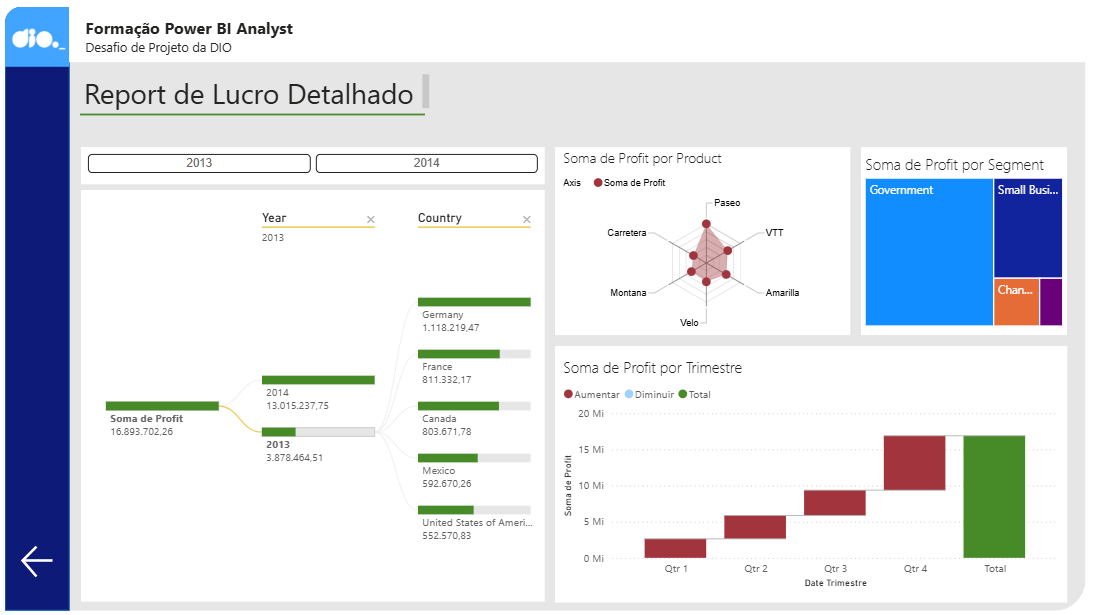

The page's visual inventory and layout, read from the dashboard file:
{"tool":"powerbi","page":{"name":"Página 2","canvas":[1280,720],"ordinal":1},"visuals":[{"type":"shape","box":[14.7,16,1246.7,696.6],"z":0},{"type":"shape","box":[14.7,16,74.6,696.6],"z":1000},{"type":"shape","box":[14.7,16,74.6,69.3],"z":2000},{"type":"image","box":[18.6,16,70.6,73.3],"z":3000},{"type":"shape","box":[89.2,15.9,1173.3,63.7],"z":4000},{"type":"textbox","box":[102.8,21.8,294.3,56.5],"z":5000},{"type":"shape","box":[101.5,118.8,398.1,42.7],"z":6000},{"type":"textbox","box":[101.5,88.8,408.5,50.8],"z":7000},{"type":"actionButton","box":[28.4,632.6,51.5,47.4],"z":8000},{"type":"shape","box":[103,227.5,535.1,475.4],"z":9000},{"type":"shape","box":[649.5,178,340.7,217.4],"z":10000},{"type":"shape","box":[1002.9,178,237.7,217.4],"z":11000},{"type":"shape","box":[649.5,406.8,591.1,296.2],"z":12000},{"type":"decompositionTreeVisual","fields":{"Analyze":["Sum(financials.Profit)"],"ExplainBy":["financials.Year","financials.Country"]},"box":[101.7,233.9,536.4,462.7],"z":13000},{"type":"treemap","fields":{"Values":["Sum(financials.Profit)"],"Group":["financials.Segment"]},"box":[1002.9,185.6,237.7,203.4],"z":14000},{"type":"waterfallChart","fields":{"Y":["Sum(financials.Profit)"],"Category":["financials.Date.Variation.Hierarquia de datas.Trimestre"]},"box":[654.6,419.5,582.2,270.7],"z":15000},{"type":"ChicletSlicer1448559807354","fields":{"Category":["financials.Year"]},"box":[102.7,177.7,535.4,42.7],"z":16000},{"type":"RadarChart1446119667547","fields":{"Y":["Sum(financials.Profit)"],"Category":["financials.Product"]},"box":[654.2,178.8,340.4,216.9],"z":17000}]}

Visuals, with their boxes on the page's 1280x720 design canvas (x1, y1, x2, y2). These are canvas units, not pixel positions in the 1095x615 screenshot, which may show the page scaled, cropped or inside an application window:
shape: bbox=(15, 16, 1261, 713)
shape: bbox=(15, 16, 89, 713)
shape: bbox=(15, 16, 89, 85)
image: bbox=(19, 16, 89, 89)
shape: bbox=(89, 16, 1262, 80)
textbox: bbox=(103, 22, 397, 78)
shape: bbox=(102, 119, 500, 162)
textbox: bbox=(102, 89, 510, 140)
actionButton: bbox=(28, 633, 80, 680)
shape: bbox=(103, 228, 638, 703)
shape: bbox=(650, 178, 990, 395)
shape: bbox=(1003, 178, 1241, 395)
shape: bbox=(650, 407, 1241, 703)
decompositionTreeVisual - Sum(financials.Profit) x financials.Year: bbox=(102, 234, 638, 697)
treemap - Sum(financials.Profit) x financials.Segment: bbox=(1003, 186, 1241, 389)
waterfallChart - Sum(financials.Profit) x financials.Date.Variation.Hierarquia de datas.Trimestre: bbox=(655, 420, 1237, 690)
ChicletSlicer1448559807354 - financials.Year: bbox=(103, 178, 638, 220)
RadarChart1446119667547 - Sum(financials.Profit) x financials.Product: bbox=(654, 179, 995, 396)
